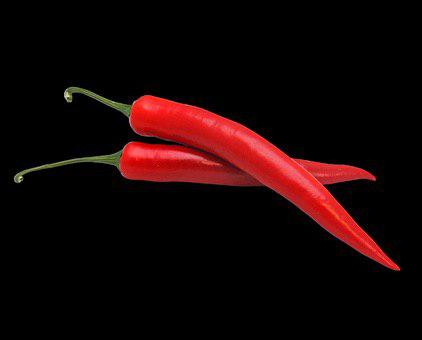lada merah: (125, 89, 402, 275), (117, 131, 381, 190)
